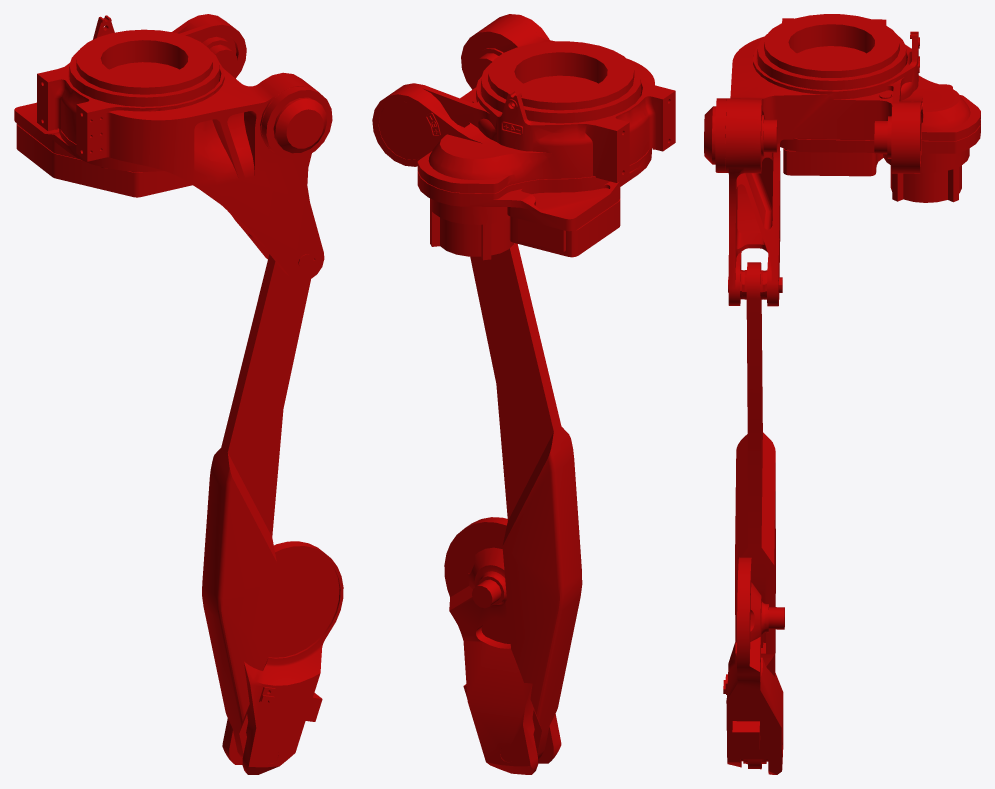
The picture shows the model from 3 angles, left to right: view 1: azimuth 30°, elevation 25°; view 2: azimuth 150°, elevation 25°; view 3: azimuth 270°, elevation 25°; orthographic projection. The views are drawn at different scales.
Visible parts, largest first — view 1: link_3; view 2: link_3; view 3: link_3.
Boxes of the visible parts, x1,y1,x2,y2 form: link_3: (14,14,343,774); link_3: (372,14,675,774); link_3: (704,14,980,774).
Size of the model in its own units: 0.5894 by 1.71 by 0.6113.
